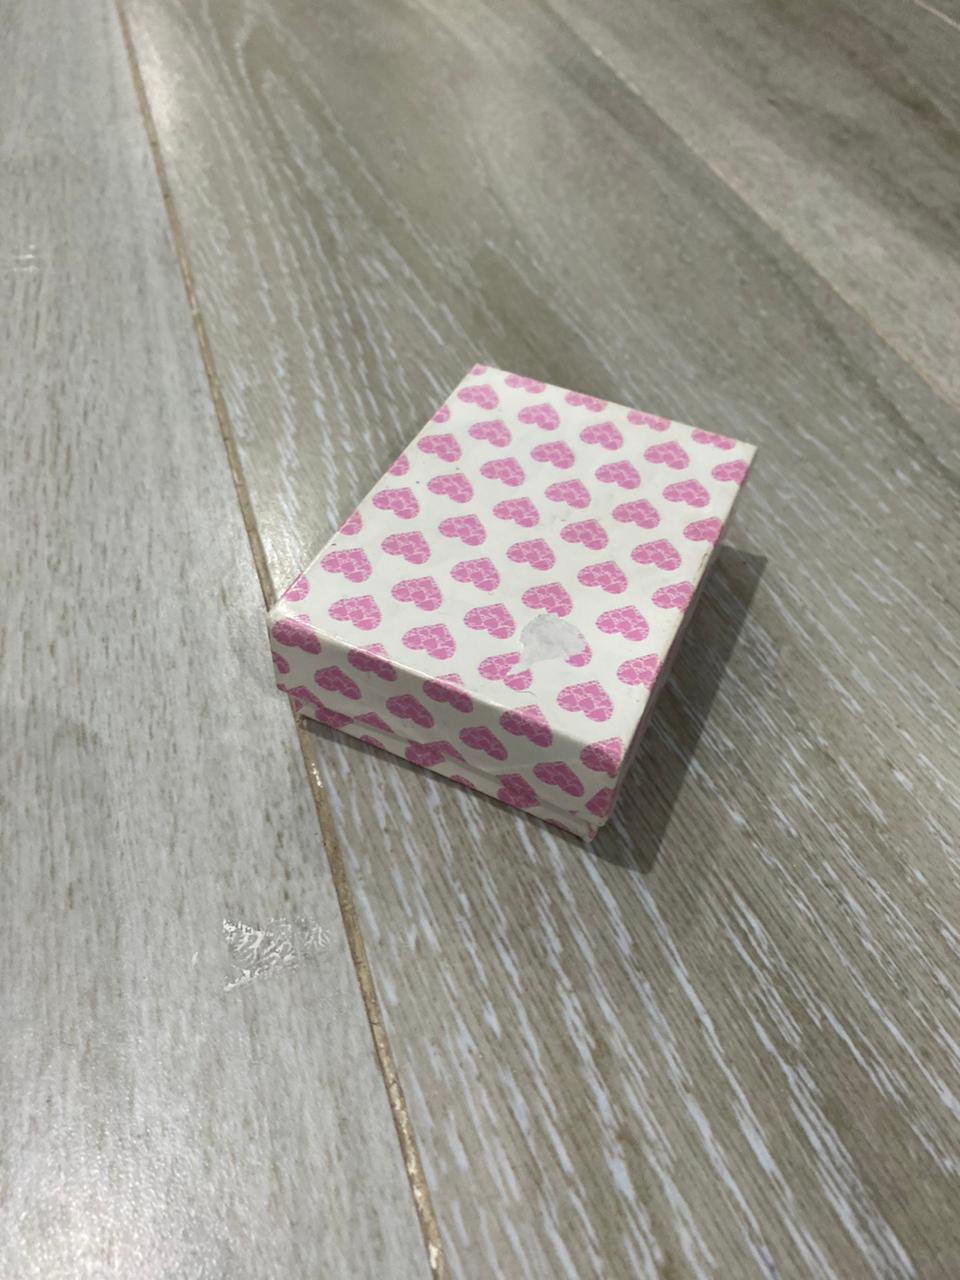Pink Box: (265, 361, 761, 857)
